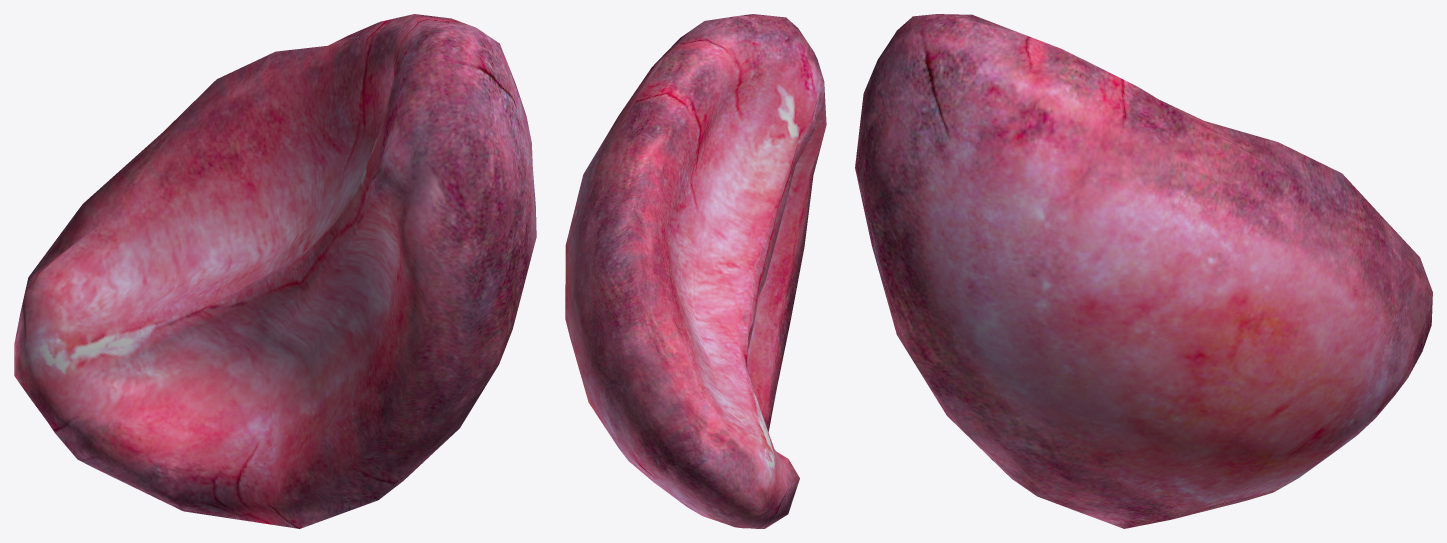
File: asset9.glb
The picture shows the model from 3 angles, left to right: view 1: azimuth 30°, elevation 25°; view 2: azimuth 150°, elevation 25°; view 3: azimuth 270°, elevation 25°; orthographic projection. The views are drawn at different scales.
Parts seen in each view (by area): view 1: Spleen_pivot; view 2: Spleen_pivot; view 3: Spleen_pivot.
Boxes of the visible parts, box(x1,y1,x2,y2) form: Spleen_pivot: box(14, 14, 536, 528); Spleen_pivot: box(565, 14, 826, 528); Spleen_pivot: box(855, 14, 1432, 528).
Bounding box in the file's own units: 0.0781 × 0.1136 × 0.1103.
Materials: 1 (1 with a texture image).
